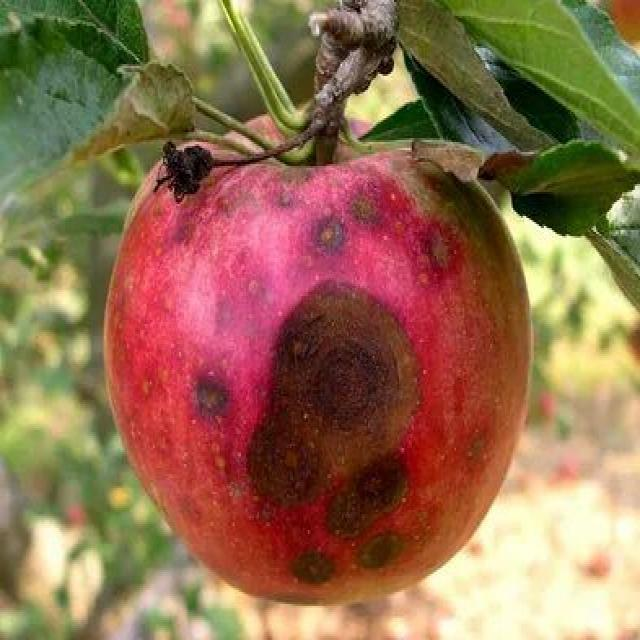Rotten: (107, 138, 528, 617)
